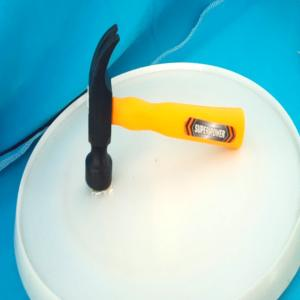martelo: (85, 23, 246, 192)
